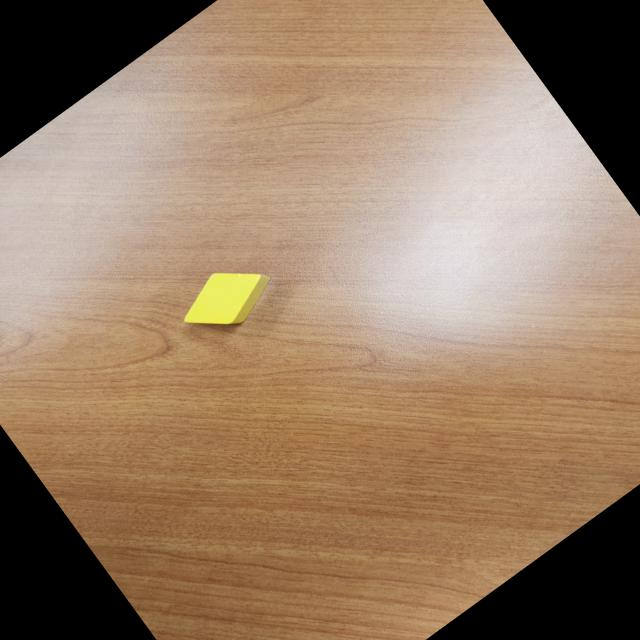yellow: (170, 245, 284, 350)
